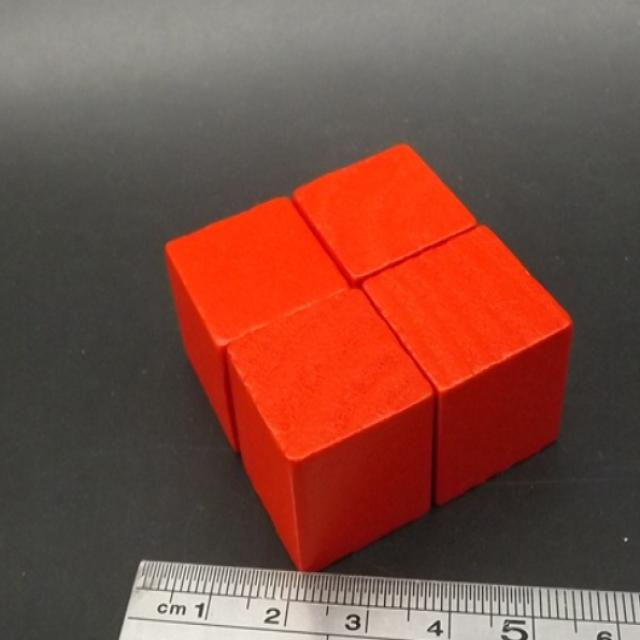red cube: (357, 223, 573, 504), (227, 283, 434, 574), (163, 194, 352, 454), (291, 140, 480, 289)
